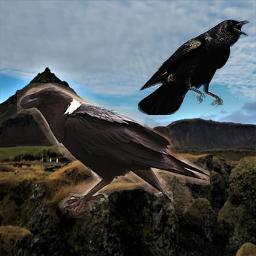Crow: (17, 83, 210, 218), (138, 18, 250, 115)
